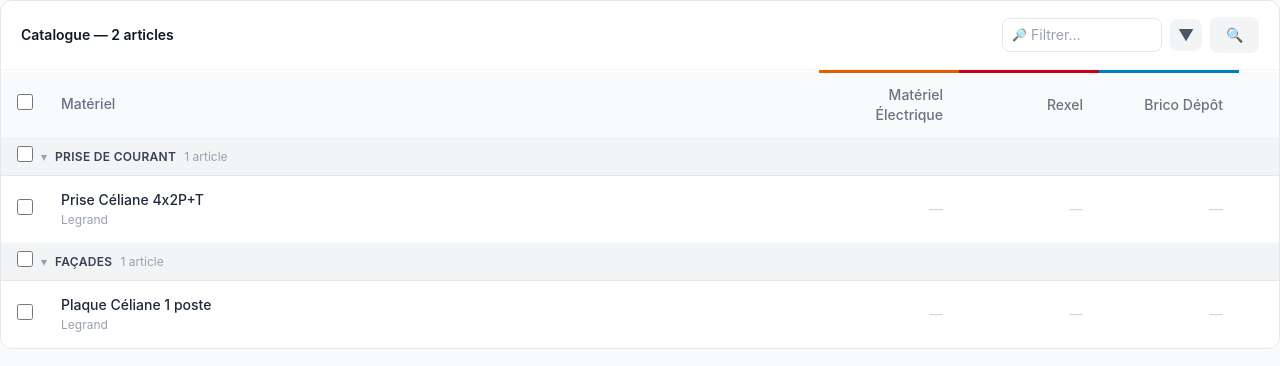
PriceTable › expands a collapsed category when its header row is clicked again
Click the cell named "Replier la catégorie Prise de courant" at point(116, 156), box [41,138,1279,176]
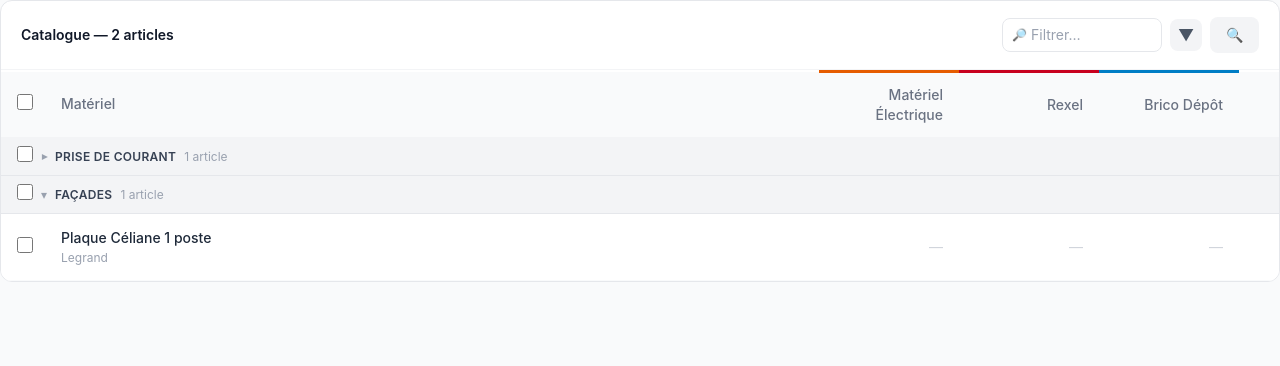
Expected: the text "Prise Céliane 4x2P+T" is gone
Click the cell named "Déplier la catégorie Prise de courant" at point(116, 156), box [41,138,1279,176]
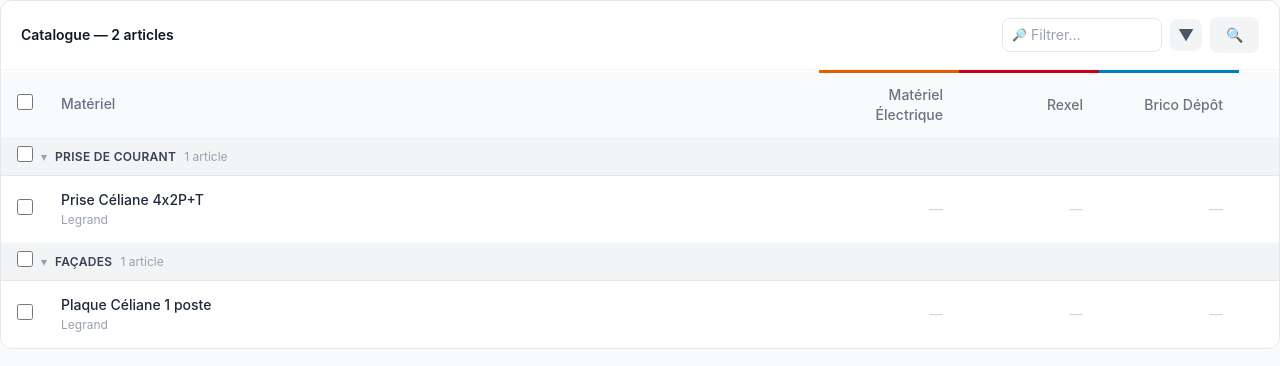
Expected: the text "Prise Céliane 4x2P+T" is shown, [61,191,204,208]
